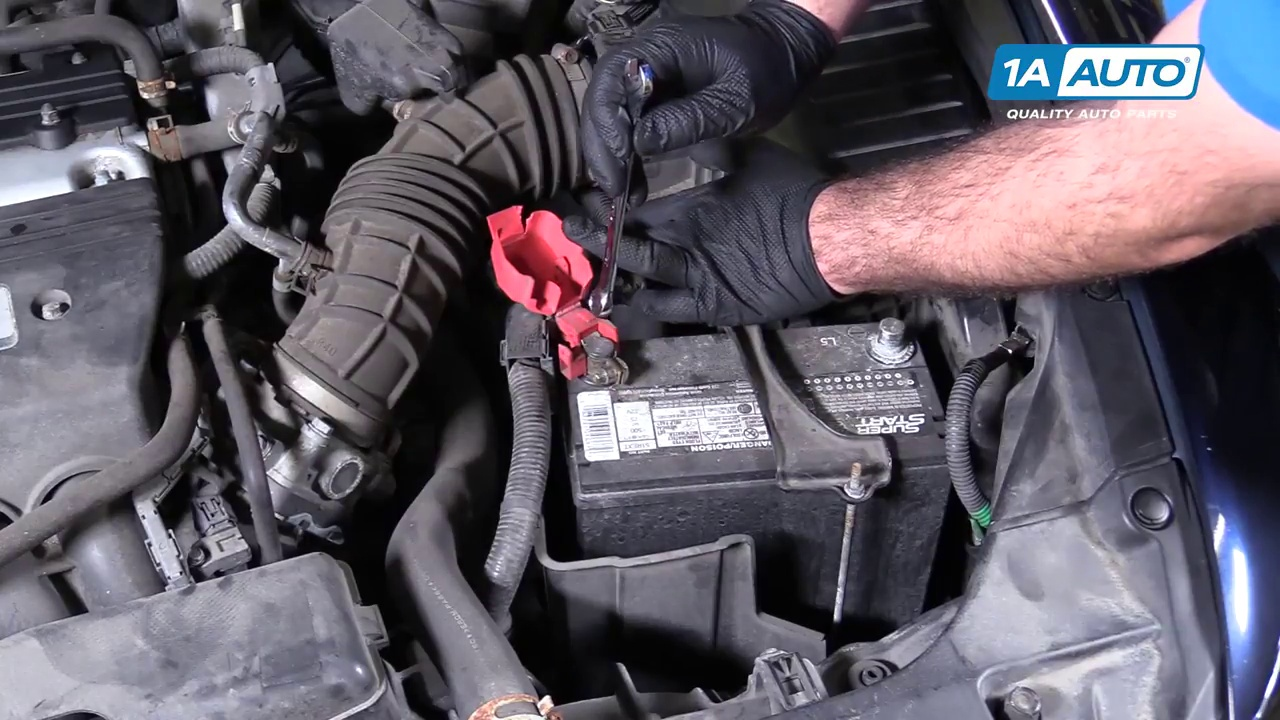battery: (566, 308, 958, 473)
neg_disconnected: (850, 302, 935, 371)
pos_touched: (483, 83, 732, 393)
